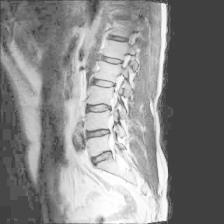disc: (96, 50, 126, 70), (106, 31, 134, 47), (88, 75, 116, 90)
hdisc: (84, 124, 113, 144), (83, 100, 115, 115), (89, 148, 113, 166)
